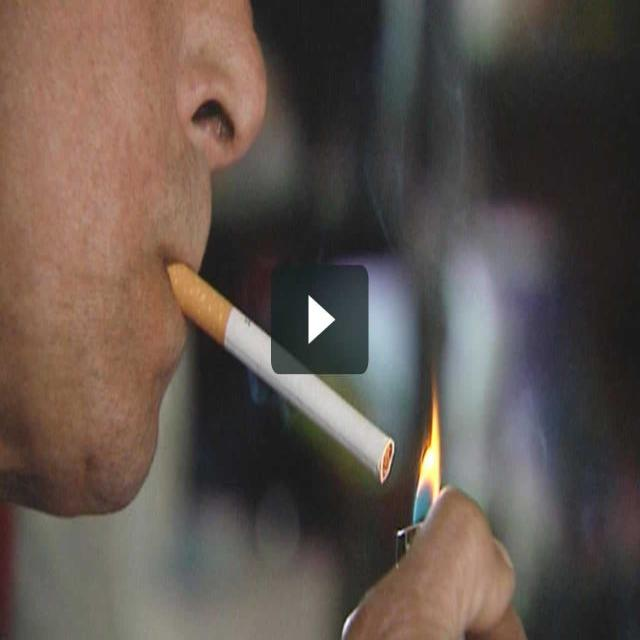Smooking: (162, 255, 416, 498)
